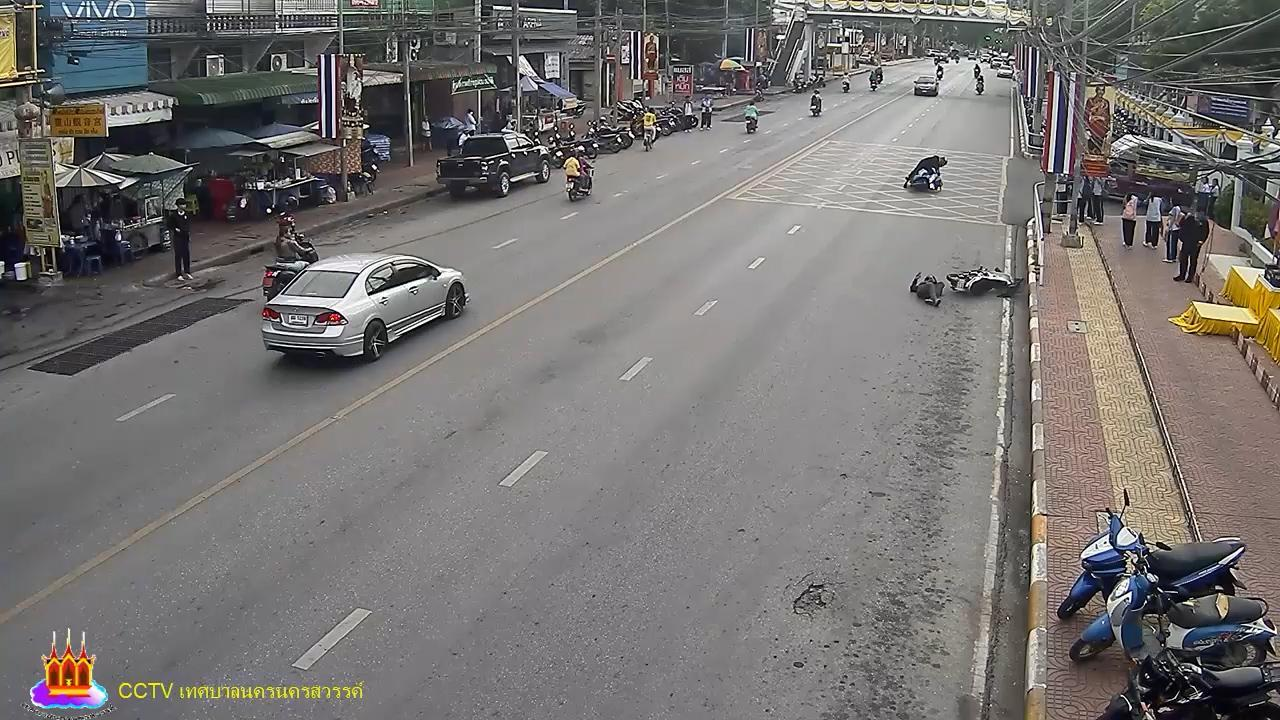accident: (911, 269, 946, 307)
